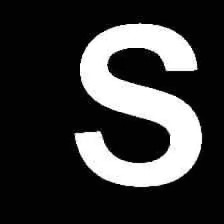LTR_S: (66, 14, 210, 193)
